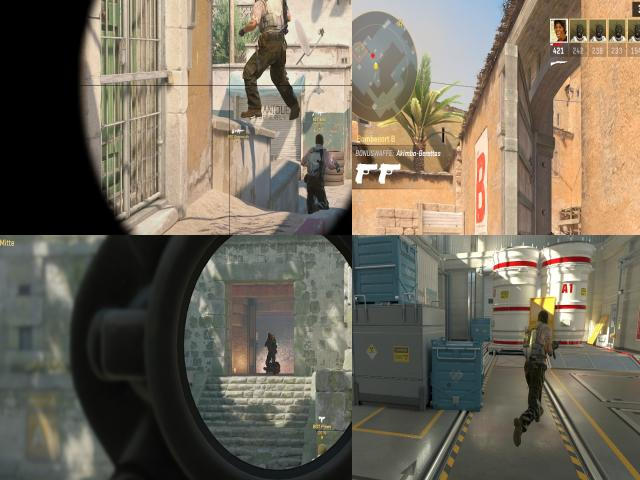Bomb: (523, 327, 533, 350)
CT: (262, 326, 280, 375)
CT-Head: (266, 330, 274, 342), (547, 230, 556, 235)
Dead: (266, 360, 282, 374)
T: (247, 0, 288, 110), (519, 309, 554, 434), (305, 132, 330, 208)
T-Head: (312, 131, 327, 152), (535, 310, 550, 329)
